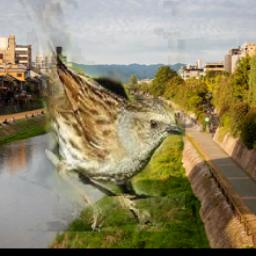Sparrow: (19, 0, 185, 231)
